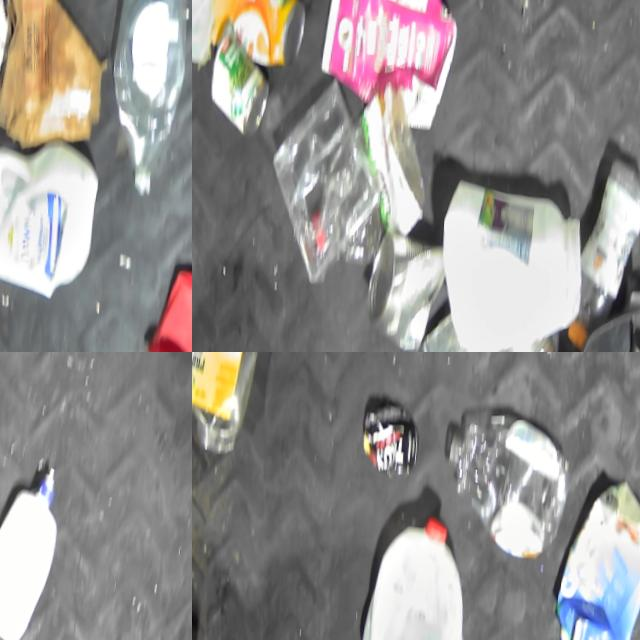can: (361, 242, 443, 352), (204, 31, 268, 138), (357, 403, 418, 478)
milk_jug: (434, 176, 586, 352), (0, 142, 102, 303), (355, 516, 469, 640), (0, 463, 60, 640)
plastic_bottle: (439, 406, 571, 567), (108, 0, 189, 197)
